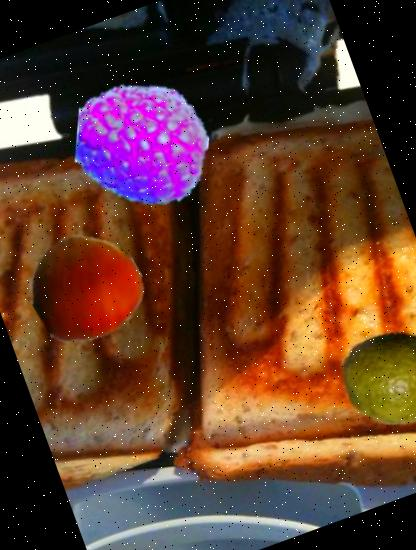Guava: (327, 310, 416, 443)
Nut: (15, 216, 156, 357)
Raspberry: (58, 59, 226, 228)
